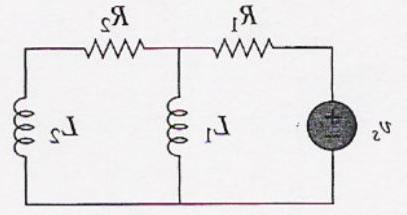inductor: (6, 81, 43, 169), (152, 85, 189, 163)
